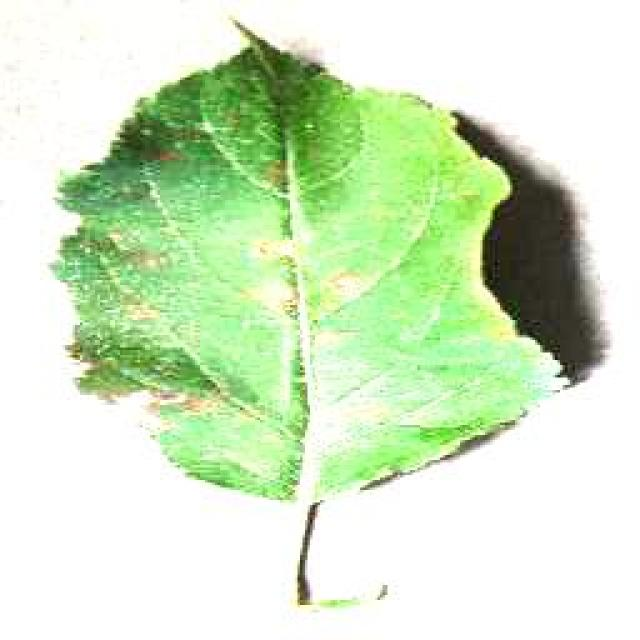Apple___Cedar_apple_rust: (43, 10, 574, 505)
